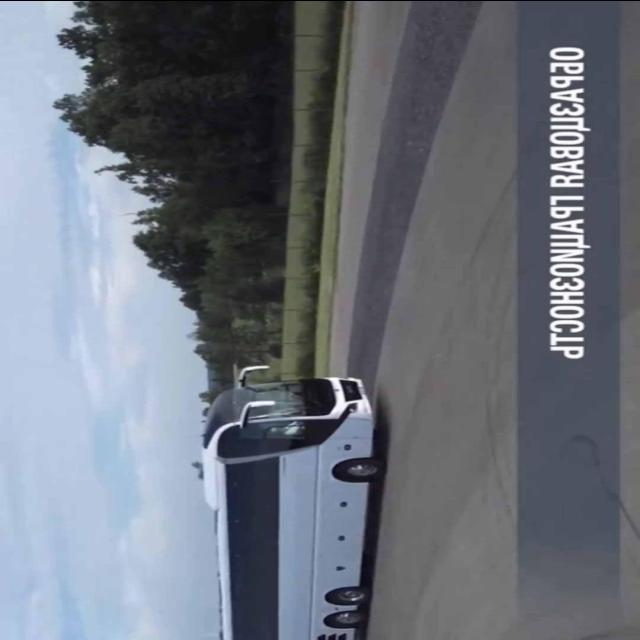bus: (199, 363, 393, 640)
